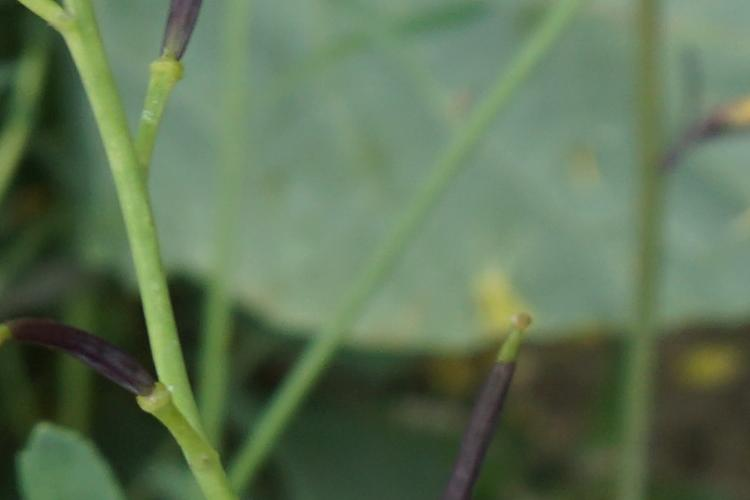pod: (5, 306, 200, 419), (448, 303, 537, 499), (150, 4, 226, 90)
